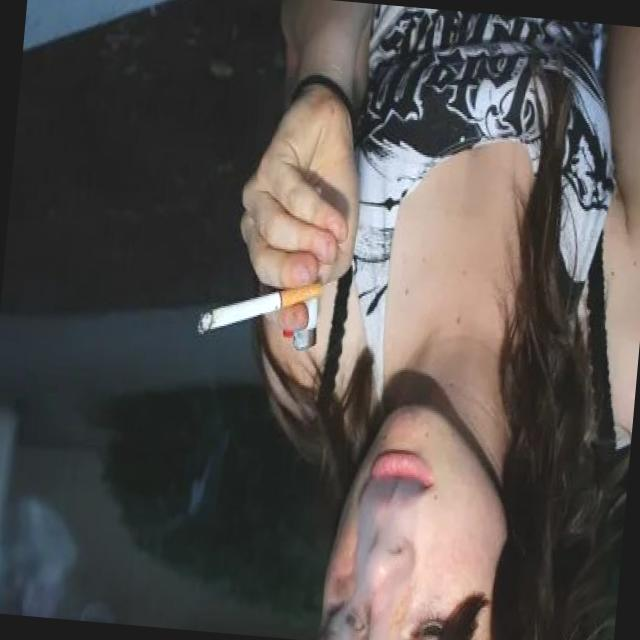cigarette: (192, 267, 326, 348)
